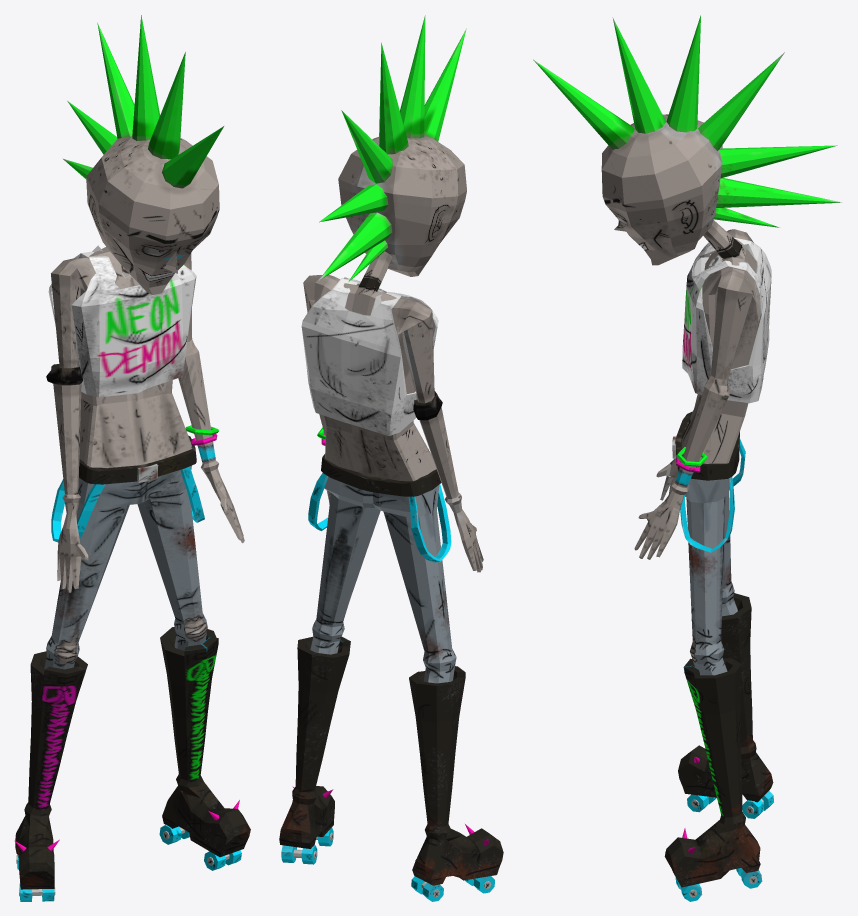
File: punkAnimation_000166.obj
The picture shows the model from 3 angles, left to right: view 1: azimuth 30°, elevation 25°; view 2: azimuth 150°, elevation 25°; view 3: azimuth 270°, elevation 25°; orthographic projection. The views are drawn at different scales.
Visible parts, largest first — view 1: Cube.004_Cube.003; view 2: Cube.004_Cube.003; view 3: Cube.004_Cube.003.
Boxes of the visible parts, x1,y1,x2,y2 form: Cube.004_Cube.003: (14, 15, 250, 901); Cube.004_Cube.003: (279, 15, 503, 901); Cube.004_Cube.003: (533, 15, 842, 901).
Bounding box in the file's own units: 2 × 7.5 × 2.5.
